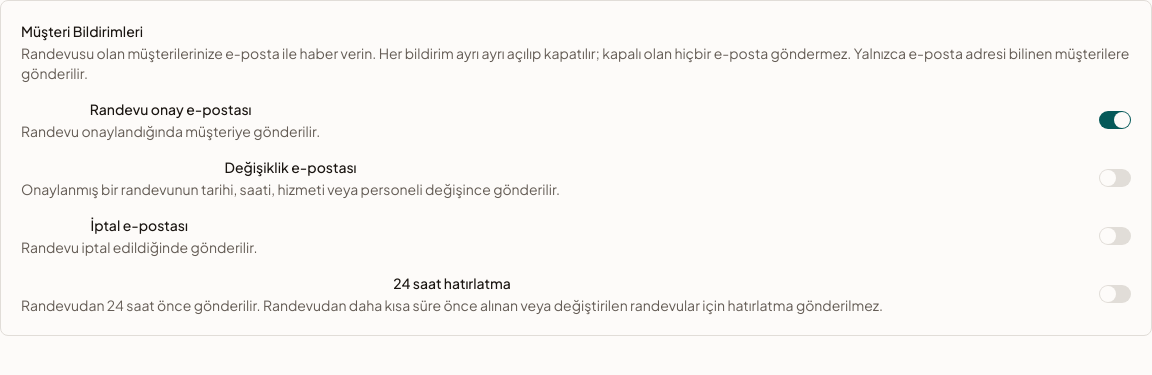
the card › a refusal leaves the switch where it was and shows the error
Click the switch in the row of "Randevu onay e-postası": (1115,120) x1=1099 y1=111 x2=1131 y2=129
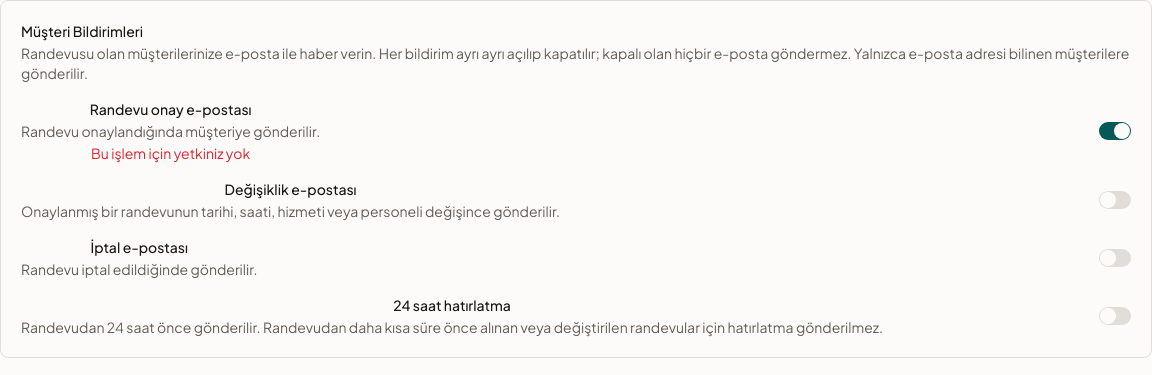
Expected: the message reads "Bu işlem için yetkiniz yok", x1=91 y1=144 x2=250 y2=162
